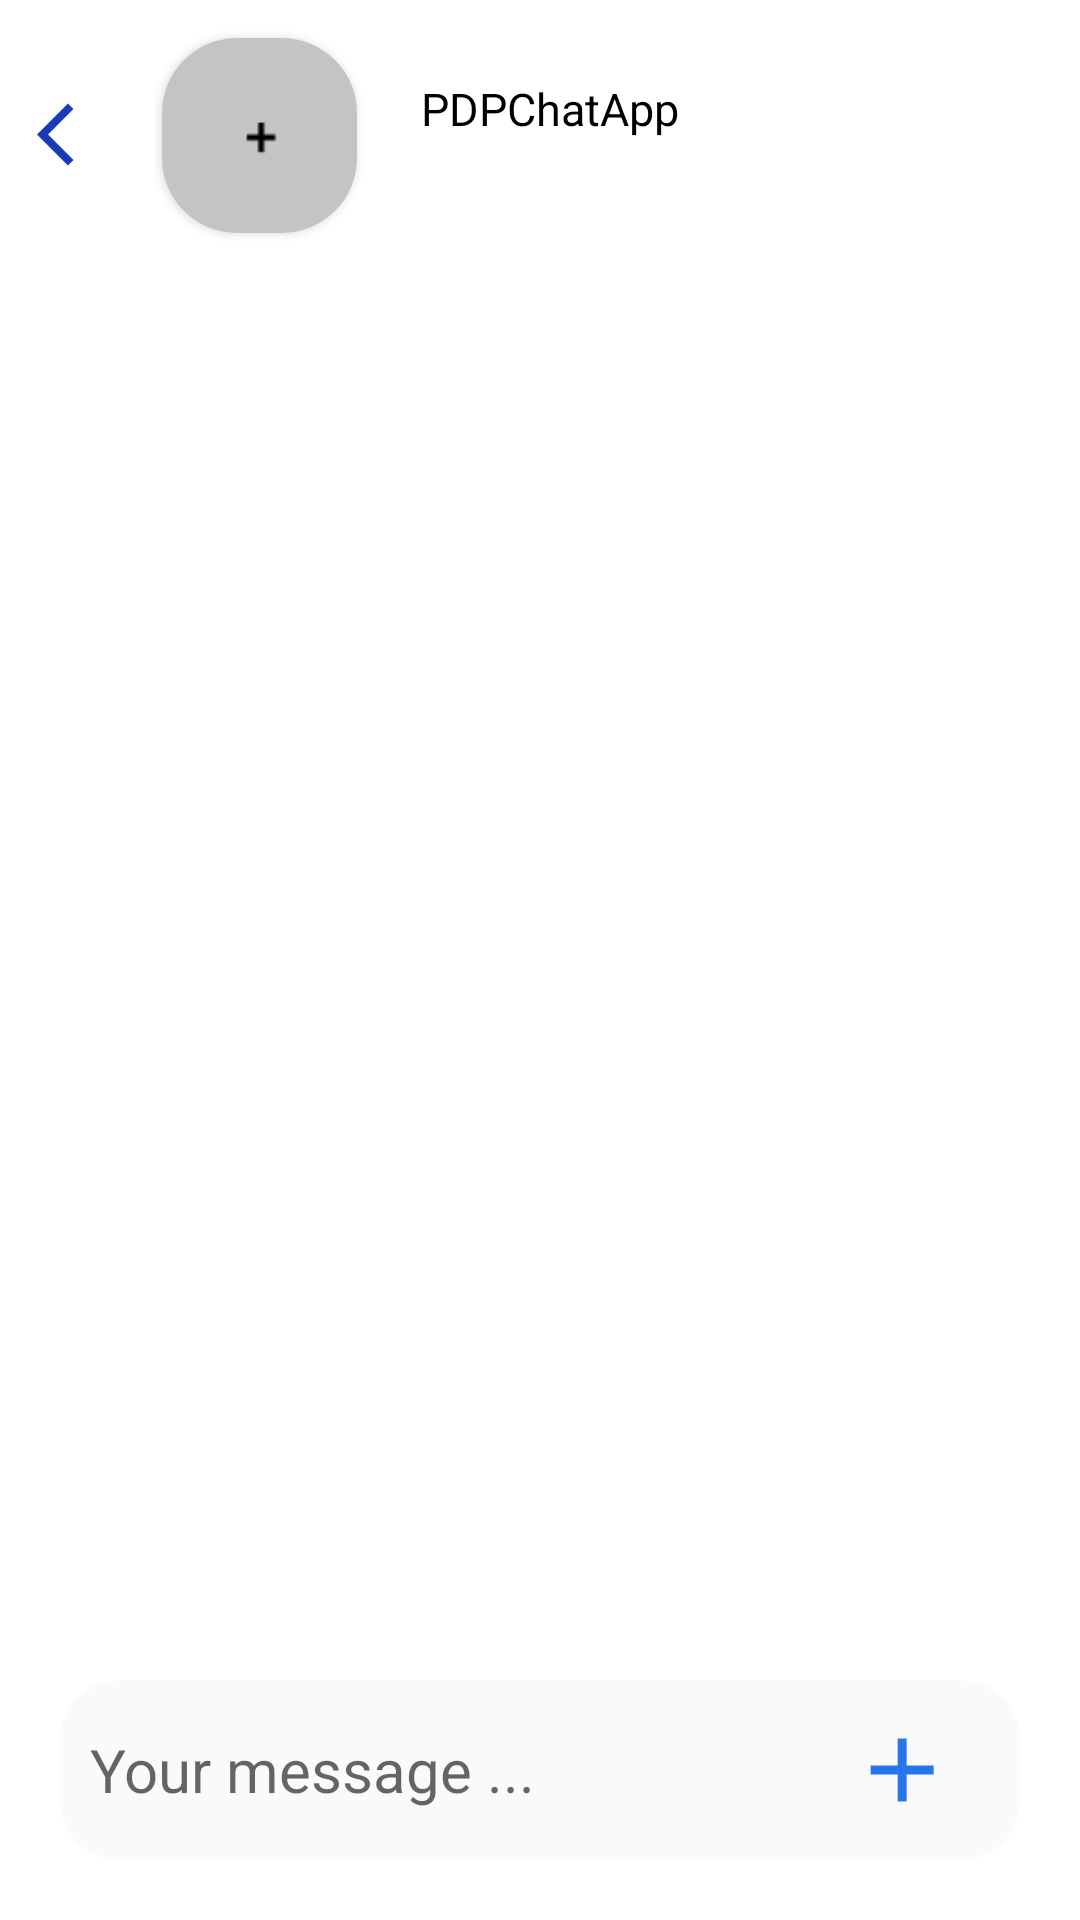

Icon click points for this 1080w x 1920h phone screenshot, format (x=x, y=y):
arrow back: (x=55, y=134)
